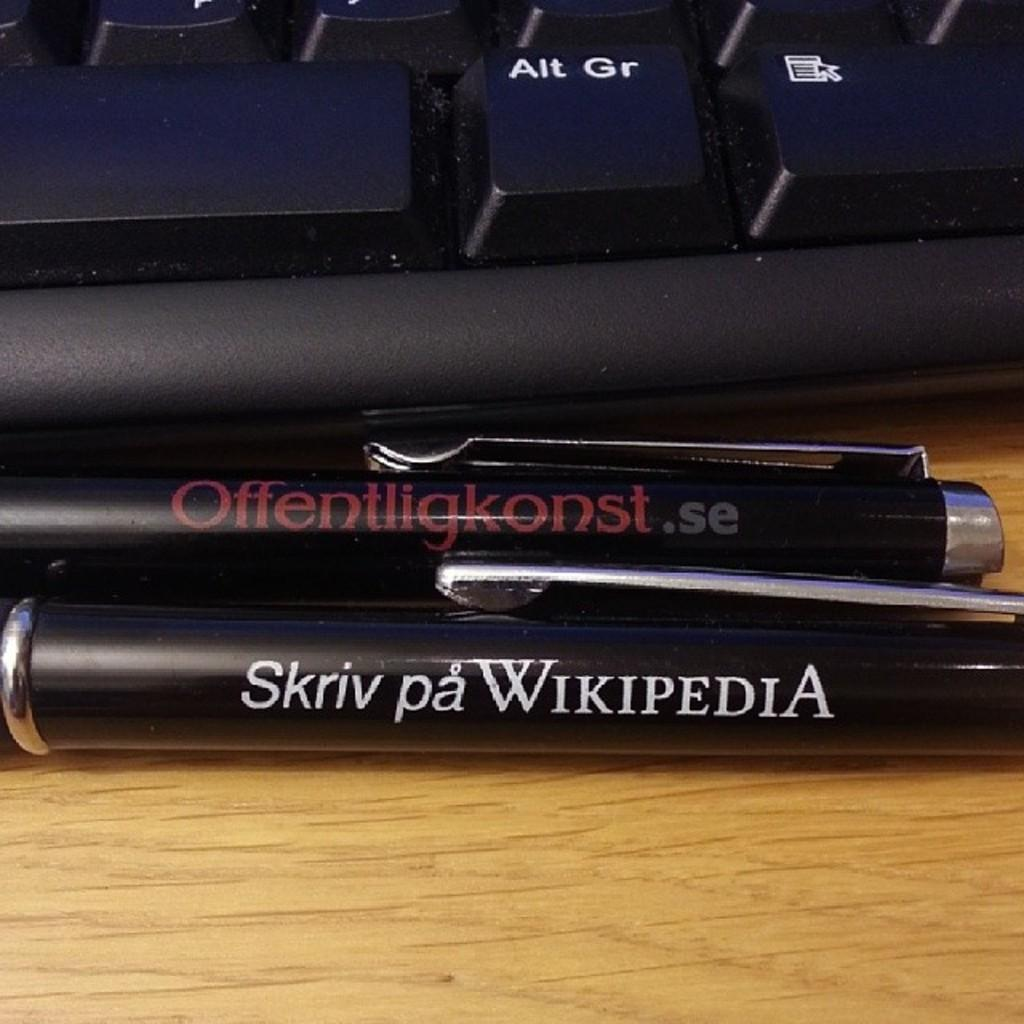pen: (0, 582, 1022, 765), (0, 429, 1003, 608)
